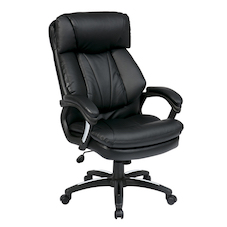chair: (29, 4, 200, 225)
